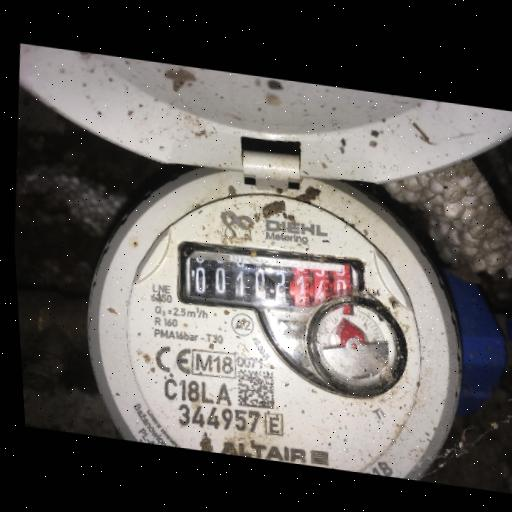0: (326, 262, 357, 304), (245, 262, 274, 305), (207, 257, 234, 301), (186, 257, 213, 299)
1: (285, 266, 314, 309), (226, 260, 253, 303)
2: (266, 264, 293, 307)
4: (306, 267, 333, 310)
border_water_meter_number: (180, 239, 364, 324)
